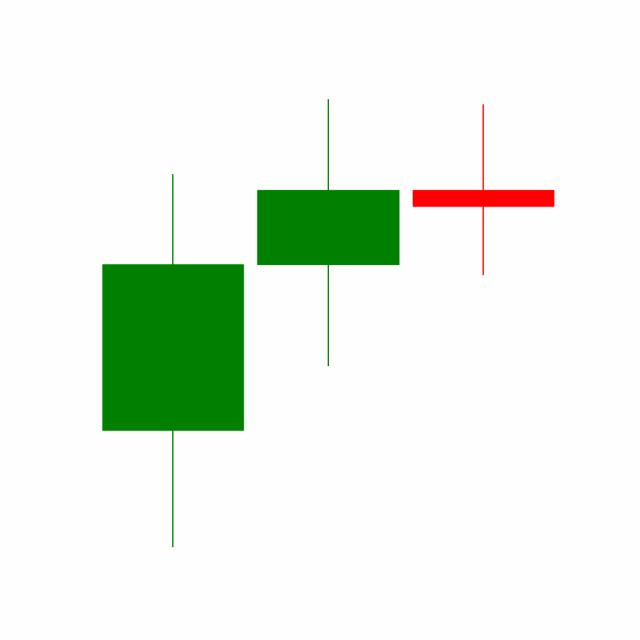Spinning Top: (249, 95, 406, 369)
